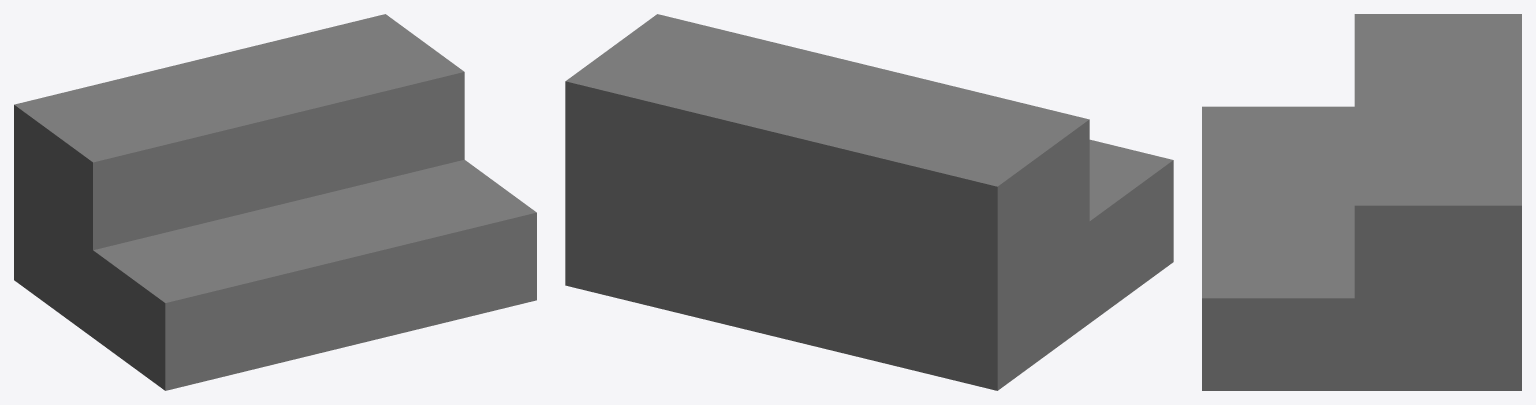
Rendered from  Rectal  (Steps).fbx.
The picture shows the model from 3 angles, left to right: view 1: azimuth 30°, elevation 25°; view 2: azimuth 150°, elevation 25°; view 3: azimuth 270°, elevation 25°; orthographic projection. The views are drawn at different scales.
Visible parts, largest first — view 1: Rectal (Steps); view 2: Rectal (Steps); view 3: Rectal (Steps).
Part boxes in pixels (x1,y1,x2,y2): Rectal (Steps): [14, 14, 536, 390]; Rectal (Steps): [565, 14, 1173, 390]; Rectal (Steps): [1202, 14, 1521, 390].
Bounding box in the file's own units: 200 × 90.33 × 141.
